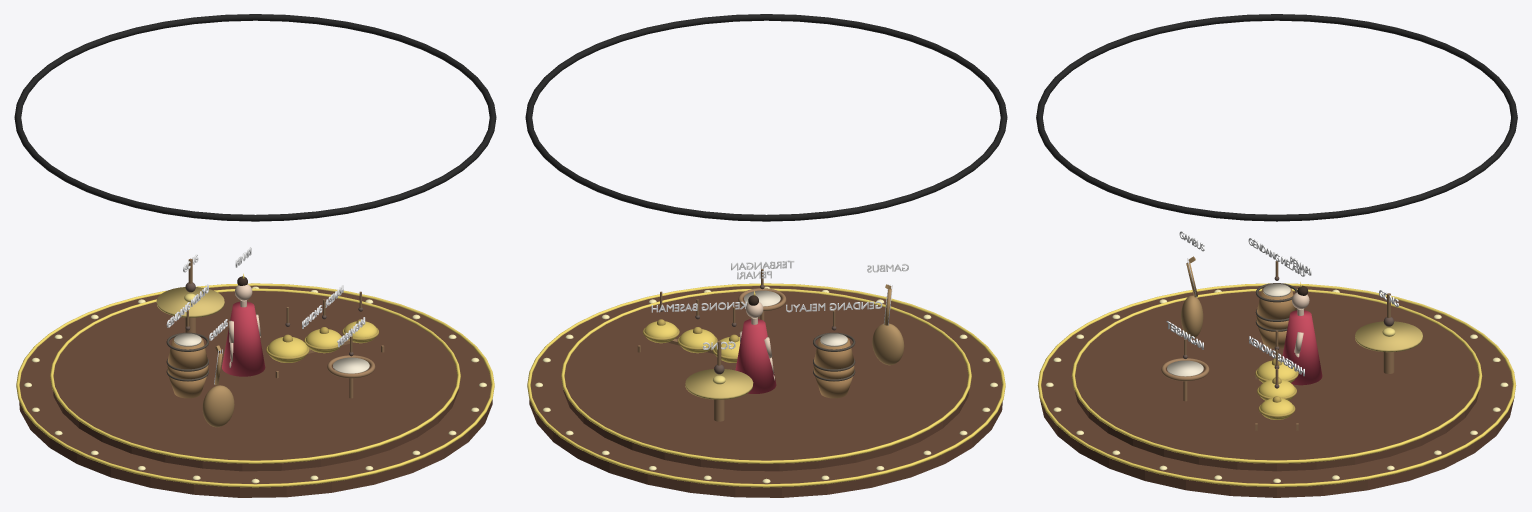
Rendered from Alat_Musik_Tradisonal.glb.
3 views of the same model, side by side, from view 1: azimuth 30°, elevation 25°; view 2: azimuth 150°, elevation 25°; view 3: azimuth 270°, elevation 25° (orthographic).
Visible parts, largest first — view 1: Struktur_Panggung_Utama, Truss_Rigging, Penari_Badan; view 2: Struktur_Panggung_Utama, Truss_Rigging, Penari_Badan; view 3: Struktur_Panggung_Utama, Truss_Rigging, Penari_Badan.
Boxes of the visible parts, x1,y1,x2,y2 form: Struktur_Panggung_Utama: [16, 283, 494, 497]; Truss_Rigging: [14, 14, 496, 221]; Penari_Badan: [222, 273, 265, 376]; Struktur_Panggung_Utama: [527, 283, 1005, 497]; Truss_Rigging: [525, 14, 1007, 221]; Penari_Badan: [735, 291, 776, 393]; Struktur_Panggung_Utama: [1037, 256, 1516, 497]; Truss_Rigging: [1036, 14, 1517, 221]; Penari_Badan: [1282, 282, 1322, 385].
Bounding box in the file's own units: 7.1 × 4.6 × 7.1.
